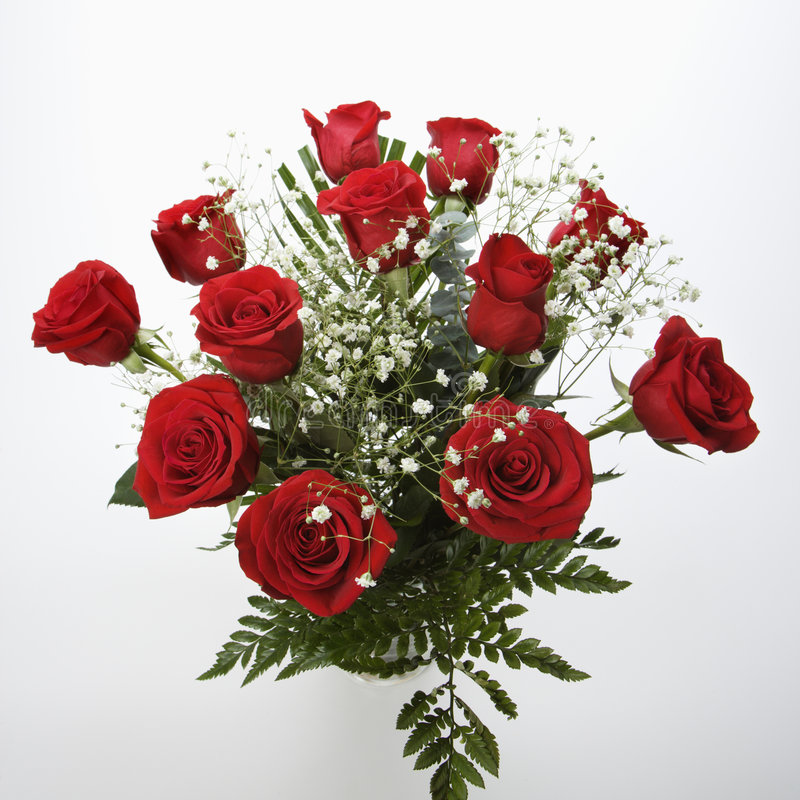RedRose: (439, 383, 607, 575), (237, 459, 392, 614), (614, 322, 756, 491), (108, 376, 258, 528), (25, 235, 139, 387), (197, 268, 325, 393), (463, 233, 566, 371), (298, 161, 432, 260), (416, 84, 496, 226), (155, 165, 245, 290), (300, 84, 399, 181), (554, 179, 656, 273)
